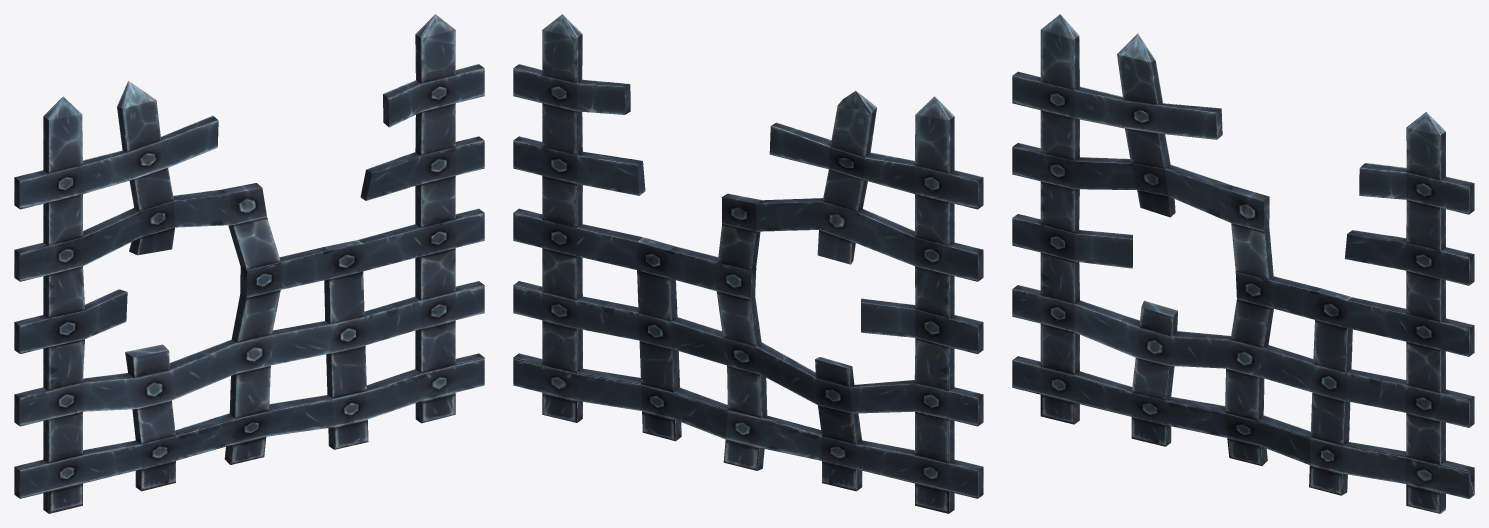
The model's file is Metal_grid_1_damaged_2.fbx.
3 renders of one model, left to right at view 1: azimuth 30°, elevation 25°; view 2: azimuth 150°, elevation 25°; view 3: azimuth 330°, elevation 25°, orthographic.
Visible parts, largest first — view 1: Metal_grid_1_damaged_2; view 2: Metal_grid_1_damaged_2; view 3: Metal_grid_1_damaged_2.
Boxes of the visible parts, left/top/right/bottom form: Metal_grid_1_damaged_2: left=14, top=14, right=484, bottom=513; Metal_grid_1_damaged_2: left=513, top=14, right=983, bottom=513; Metal_grid_1_damaged_2: left=1012, top=14, right=1474, bottom=513.
Size of the model in its own units: 2 by 1.7 by 0.1684.
